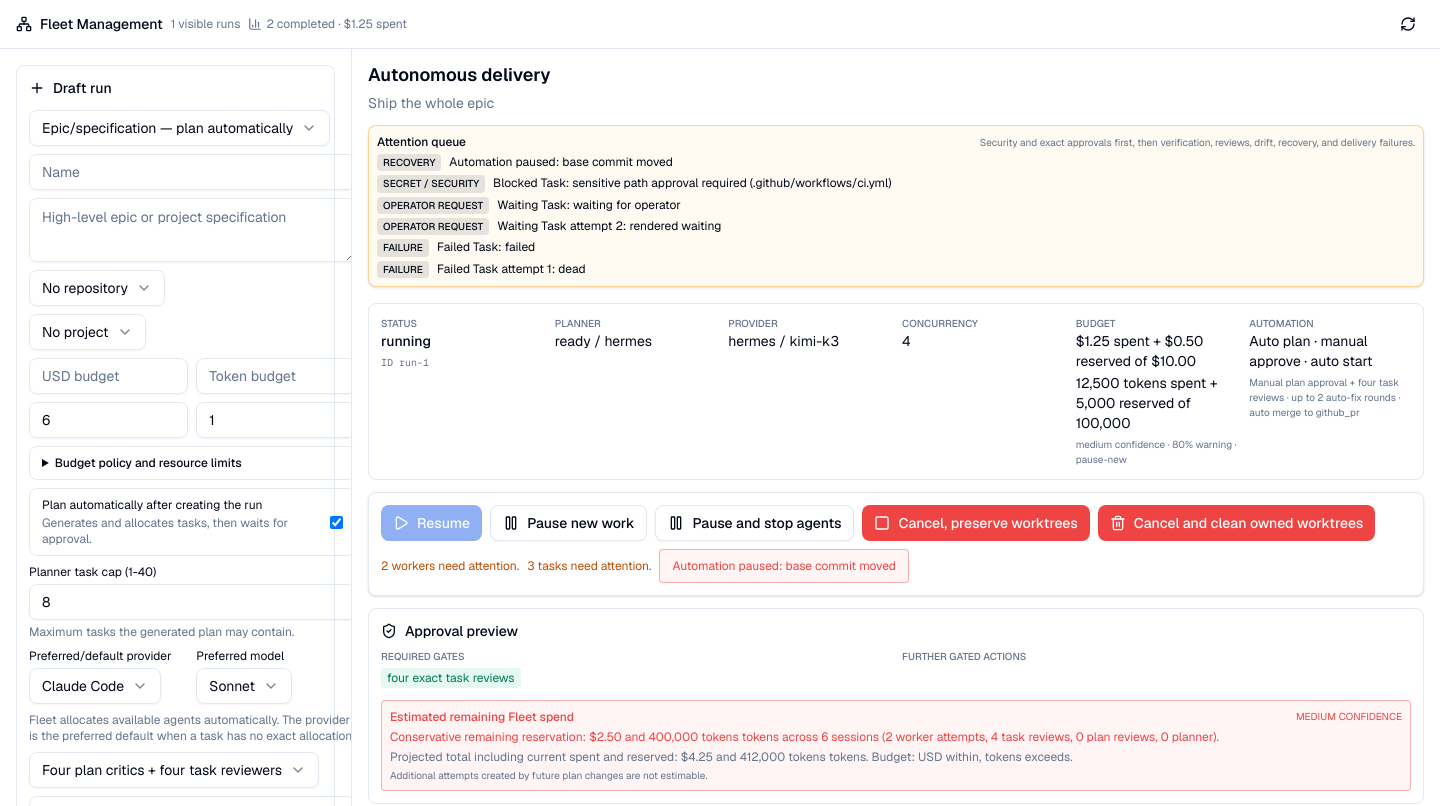
Test: FleetManagementView status drilldowns › defaults to six parallel workers and warns above twelve
Check: the heading "Autonomous delivery" is shown, box 368,63 -> 550,86
Replace the text in the number field named "Max parallel workers" with "13": point(109, 420) 29,402 -> 188,438
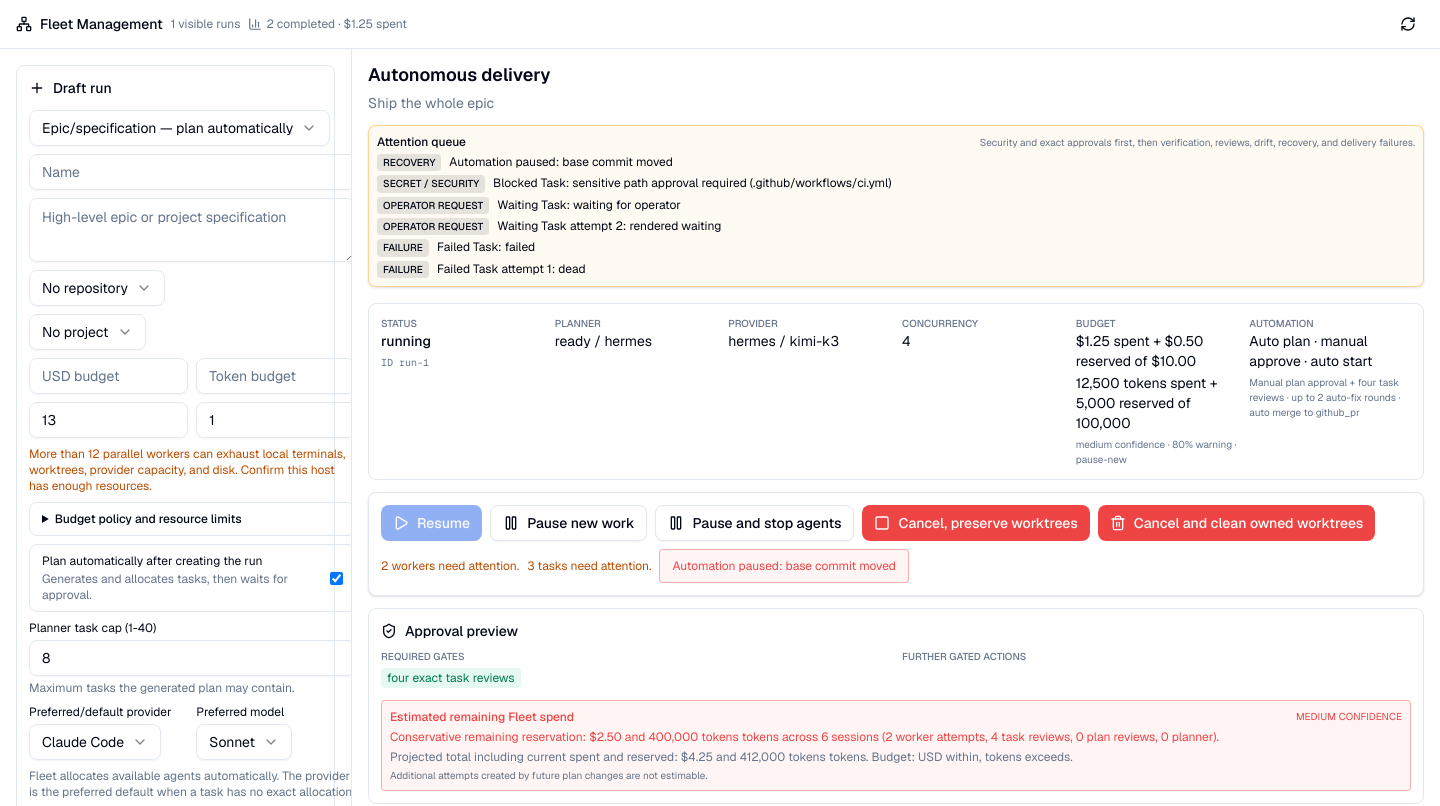
Check: the text "More than 12 parallel workers can exhaust" is shown, box 29,446 -> 352,494
Replace the text in the number field named "Max parallel workers" with "12": point(109, 420) 29,402 -> 188,438
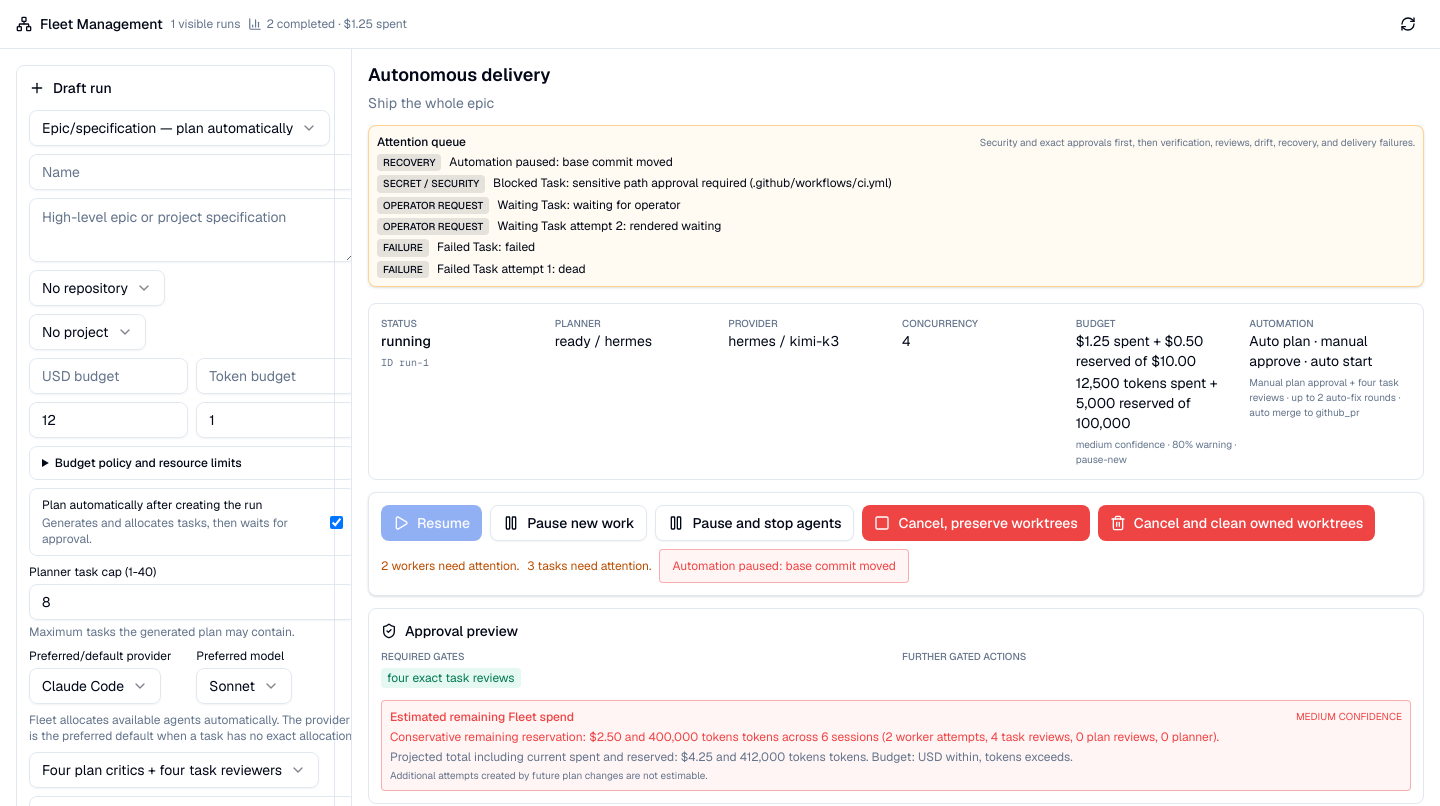
Check: the text "More than 12 parallel workers can exhaust" is gone
